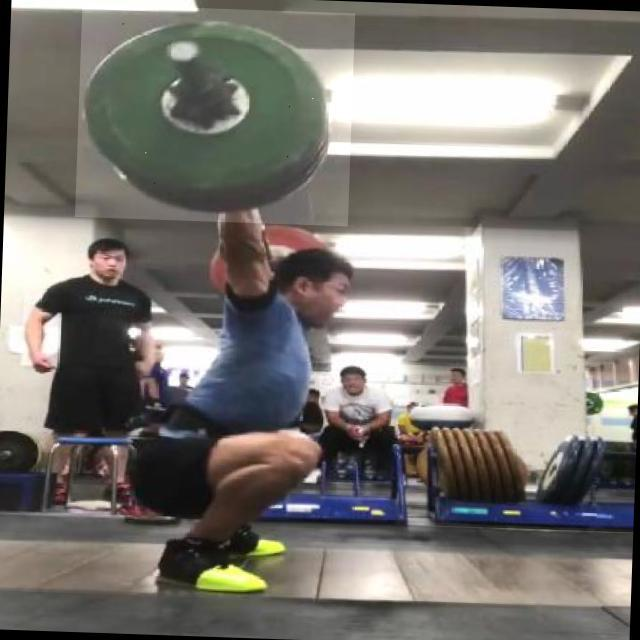barbell: (76, 5, 356, 227)
